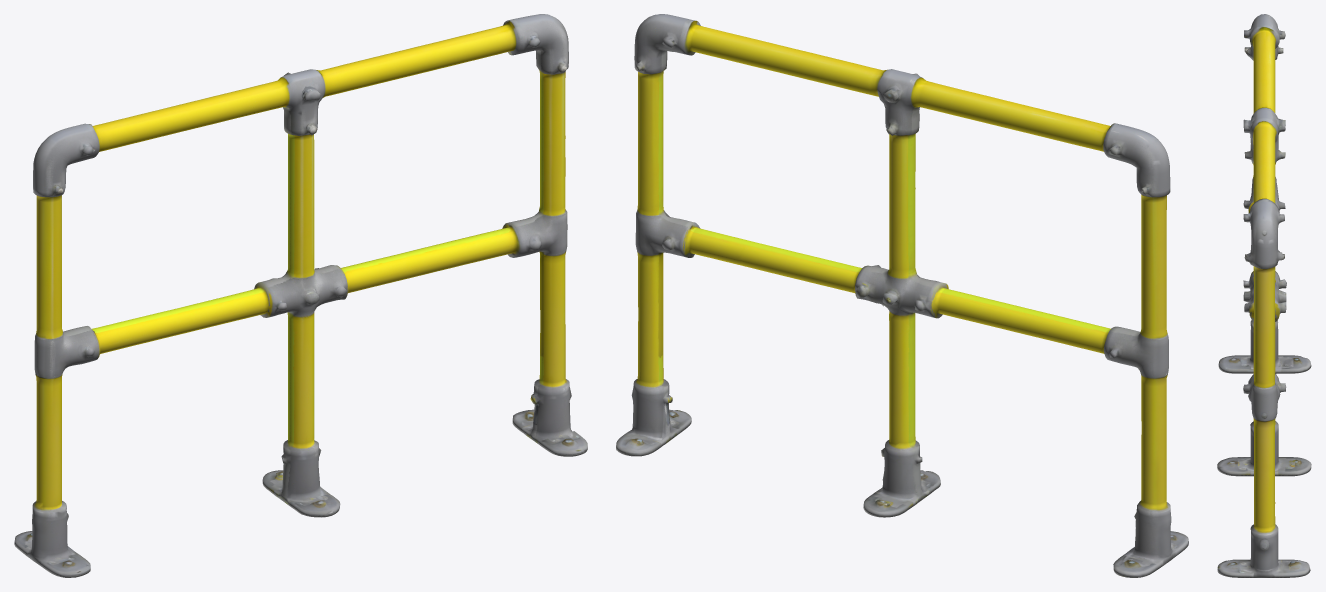
The model's file is tvorele.glb.
3 renders of one model, left to right at view 1: azimuth 30°, elevation 25°; view 2: azimuth 150°, elevation 25°; view 3: azimuth 270°, elevation 25°, orthographic. The views are drawn at different scales.
Size of the model in its own units: 2 by 1.51 by 0.3629.
1 material, 1 textured.
